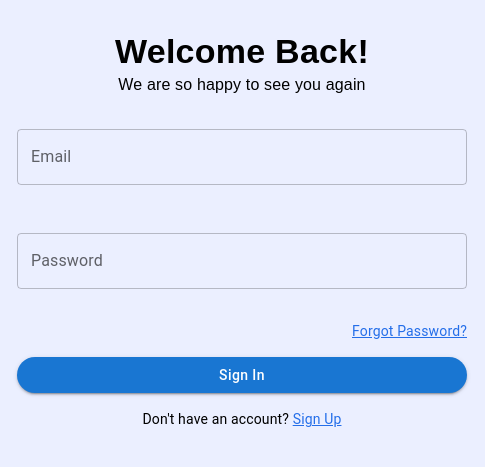
Test case: SignIn › shows validation error for invalid email address
Type "invalid-email" into the field with test id "user-email".
click(242, 157); type("invalid-email")  # box [17, 129, 467, 185]
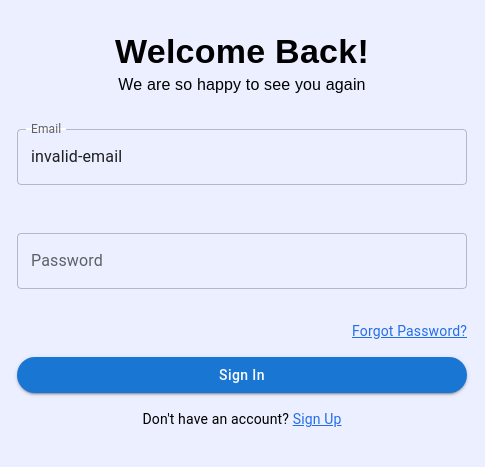
Click the button "Sign In".
click(242, 375)  # box [17, 357, 467, 393]
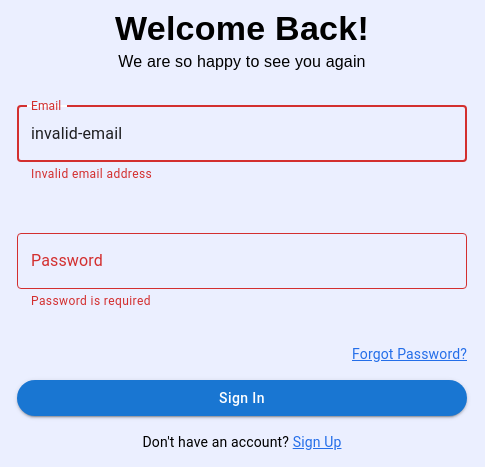
Check: the text "Invalid email address" is shown, box [31, 167, 152, 181]
